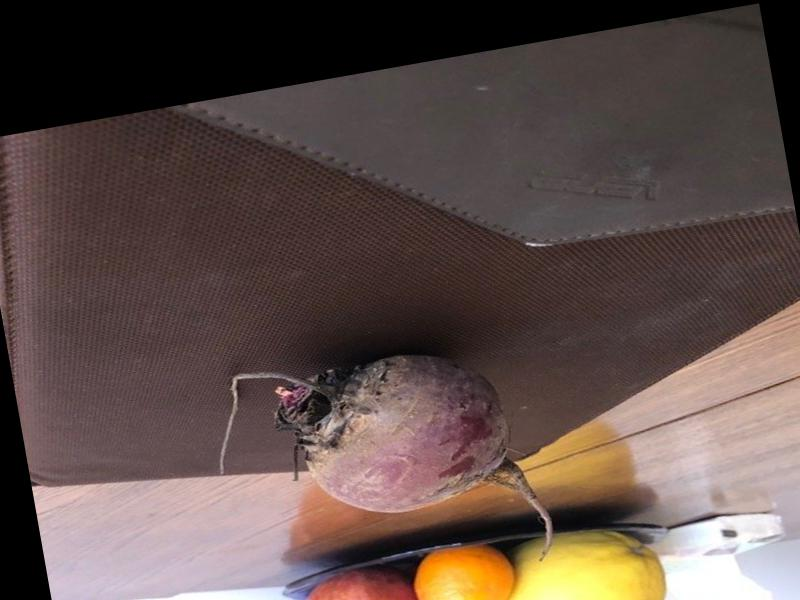Beet: (202, 324, 560, 600)
